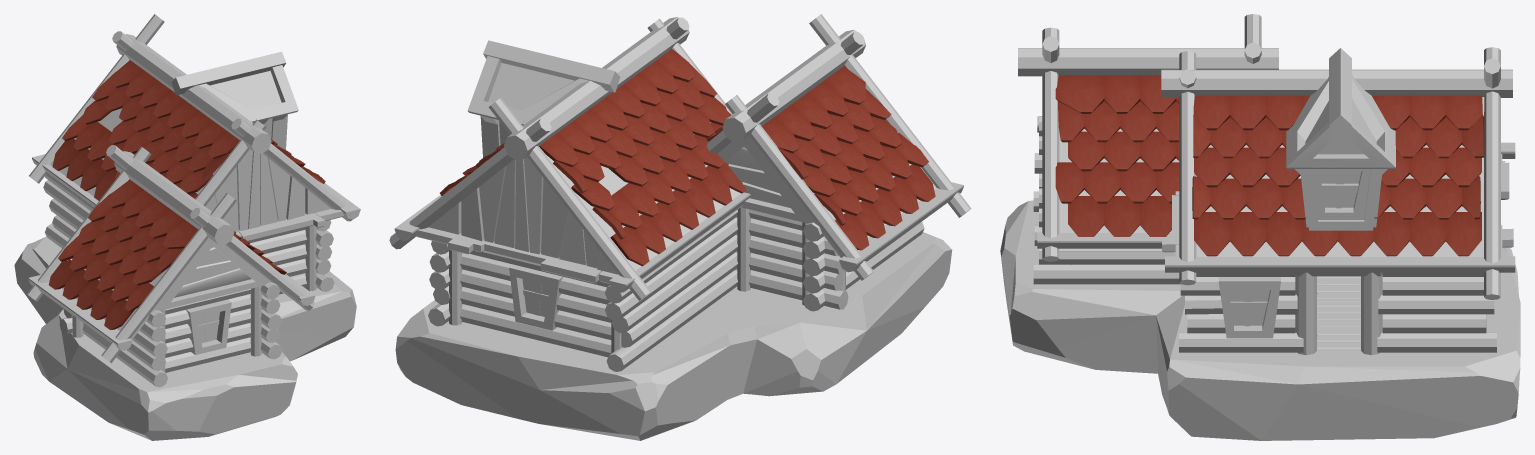
File: House_Large.fbx
The picture shows the model from 3 angles, left to right: view 1: azimuth 30°, elevation 25°; view 2: azimuth 150°, elevation 25°; view 3: azimuth 270°, elevation 25°; orthographic projection. The views are drawn at different scales.
Parts seen in each view (by area): view 1: House_Large_LOD0; view 2: House_Large_LOD0; view 3: House_Large_LOD0.
Boxes of the visible parts, x1,y1,x2,y2 form: House_Large_LOD0: (14, 14, 360, 440); House_Large_LOD0: (389, 14, 971, 440); House_Large_LOD0: (1000, 14, 1520, 440).
Size of what is drawn, in the model's own units: 1113 by 864 by 1229.
